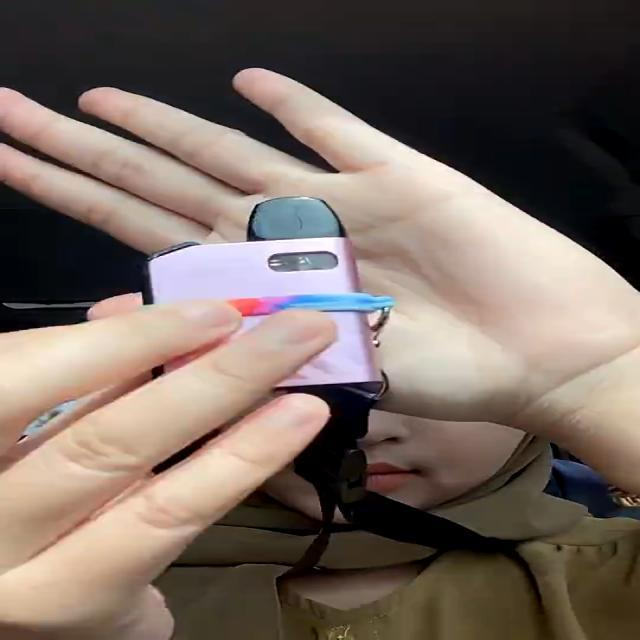Hazard: (139, 196, 388, 387)
